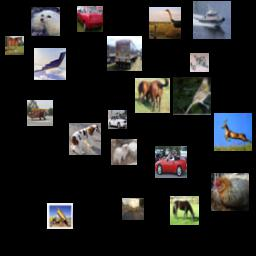airplane: (34, 48, 66, 80), (27, 100, 53, 126), (190, 53, 209, 72)
automobile: (155, 146, 187, 178), (77, 6, 103, 32), (108, 110, 127, 129)
bird: (211, 173, 249, 211), (173, 77, 211, 115), (149, 7, 181, 39)
deer: (214, 113, 252, 151)
dog: (69, 123, 101, 155), (31, 7, 60, 36), (111, 139, 137, 165)
ship: (193, 1, 231, 39)
truck: (107, 36, 142, 71), (47, 203, 73, 229), (122, 198, 144, 220)
